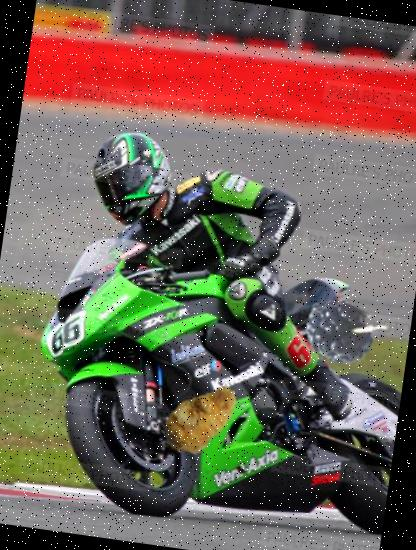Ginger: (154, 371, 250, 467)
Mulberry: (286, 282, 387, 384)
